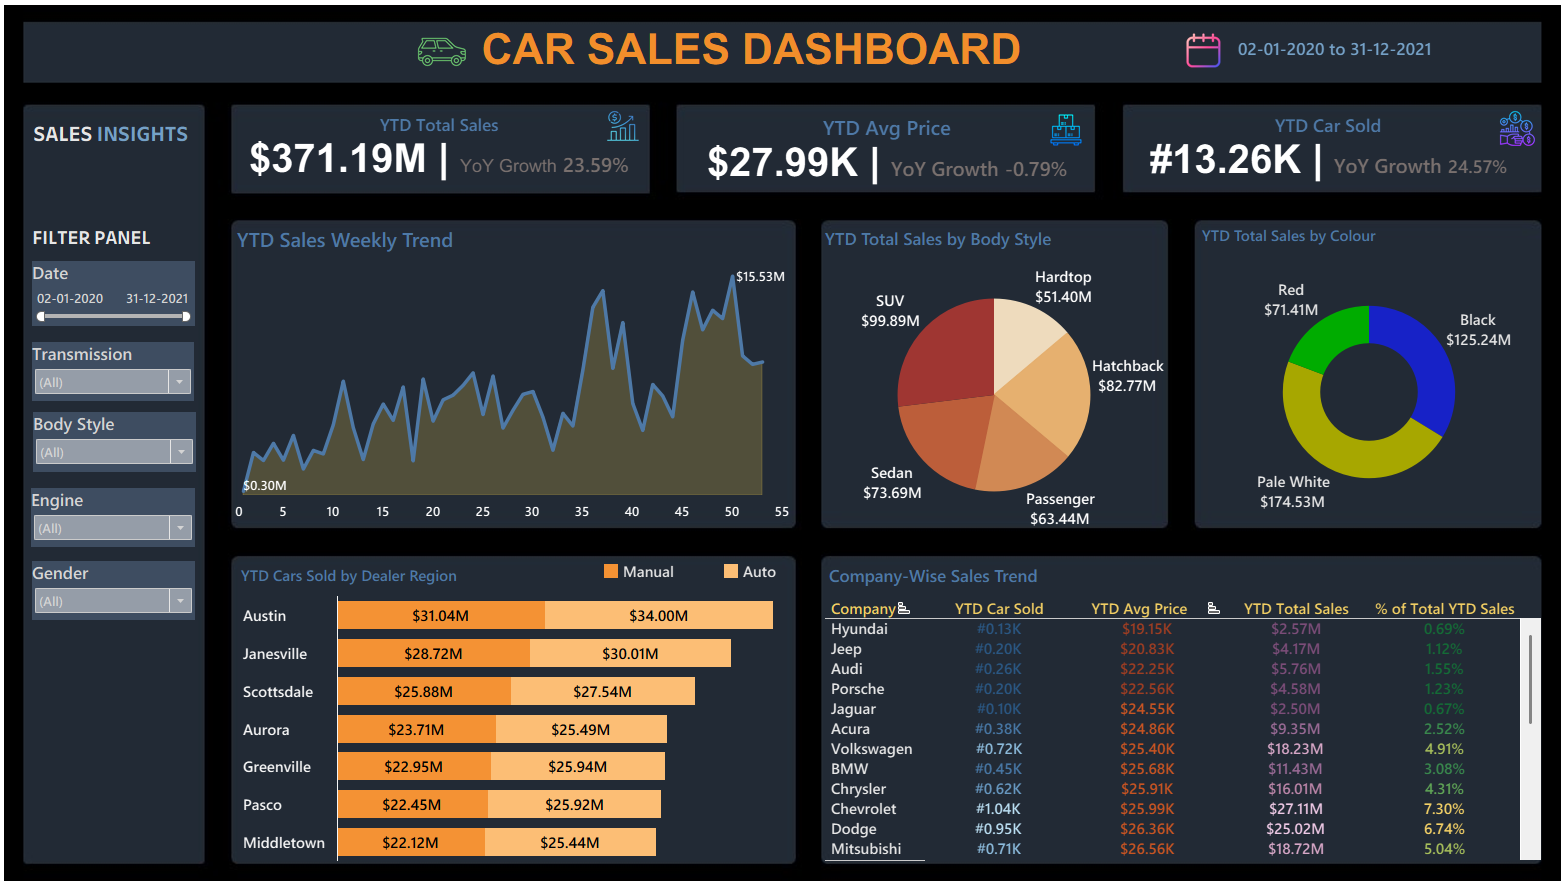

The page's visual inventory and layout, read from the dashboard file:
{"tool":"tableau","page":{"name":"Dashboard 1","canvas":[1600,900],"ordinal":0},"visuals":[{"type":"image","param":"Image/Car Sales Background.jpg","box":[8,8,1584,884]},{"type":"text","box":[452,28,633,58]},{"type":"worksheet","title":"Date Range","mark":"Automatic","box":[1197,28,311,56]},{"type":"image","param":"Image/Car Icon.png","box":[417,30,83,57]},{"type":"image","param":"Image/calendar.png","box":[1192,38,57,38]},{"type":"worksheet","title":"YTD Total Sales","mark":"Automatic","box":[248,110,417,89]},{"type":"worksheet","title":"YTD Car Sold","mark":"Automatic","box":[1138,111,416,88]},{"type":"worksheet","title":"YTD Avg Price","mark":"Automatic","box":[695,114,419,85]},{"type":"image","param":"Image/Sales Icon.png","box":[615,115,49,35]},{"type":"image","param":"Image/Cars Sold Icon.png","box":[1514,117,40,36]},{"type":"image","param":"Image/Avg Price Icon.png","box":[1060,120,46,33]},{"type":"text","box":[47,125,207,30]},{"type":"worksheet","title":"YTD Sales Weekly Trend","mark":"Area","rows":["Calculation_1645731661828096","Calculation_1645731661828096"],"cols":["Date"],"box":[250,228,559,304]},{"type":"worksheet","title":"YTD Total Sales by Colour","mark":"Pie","rows":["Calculation_1645732027969546","Calculation_1645732027994124"],"box":[1215,228,342,307]},{"type":"text","box":[46,229,125,30]},{"type":"worksheet","title":"YTD Total Sales by Body Style","mark":"Pie","box":[838,230,346,306]},{"type":"filter","title":"YTD Sales Weekly Trend","param":"[federated.0ejt9bj1bignxn1986noj0t8b0zh].[none:Date:qk]","box":[49,268,163,65]},{"type":"filter","title":"YTD Sales Weekly Trend","param":"[federated.0ejt9bj1bignxn1986noj0t8b0zh].[none:Transmission:nk]","box":[49,349,162,59]},{"type":"filter","title":"YTD Sales Weekly Trend","param":"[federated.0ejt9bj1bignxn1986noj0t8b0zh].[none:Body Style:nk]","box":[50,419,163,60]},{"type":"filter","title":"YTD Sales Weekly Trend","param":"[federated.0ejt9bj1bignxn1986noj0t8b0zh].[none:Engine:nk]","box":[48,495,164,59]},{"type":"worksheet","title":"Company-Wise Sales Trend","mark":"Automatic","rows":["Company"],"box":[842,567,716,301]},{"type":"filter","title":"YTD Sales Weekly Trend","param":"[federated.0ejt9bj1bignxn1986noj0t8b0zh].[none:Gender:nk]","box":[49,568,163,59]},{"type":"worksheet","title":"YTD Cars Sold by Dealer Region","mark":"Automatic","rows":["Dealer_Region"],"cols":["Calculation_1645731661828096"],"box":[254,568,558,300]},{"type":"legend","title":"YTD Cars Sold by Dealer Region","param":"[federated.0ejt9bj1bignxn1986noj0t8b0zh].[none:Transmission:nk]","box":[618,568,247,30]}]}

Visuals, with their boxes in screenshot pixels (x1, y1, x2, y2), scaled from the page's 1600x900 canvas onto the 1564x890 screenshot:
image: (8, 8, 1556, 882)
text: (442, 28, 1061, 85)
"Date Range" worksheet: (1170, 28, 1474, 83)
image: (408, 30, 489, 86)
image: (1165, 38, 1221, 75)
"YTD Total Sales" worksheet: (242, 109, 650, 197)
"YTD Car Sold" worksheet: (1112, 110, 1519, 197)
"YTD Avg Price" worksheet: (679, 113, 1089, 197)
image: (601, 114, 649, 148)
image: (1480, 116, 1519, 151)
image: (1036, 119, 1081, 151)
text: (46, 124, 248, 153)
"YTD Sales Weekly Trend" worksheet (Area marks): (244, 225, 791, 526)
"YTD Total Sales by Colour" worksheet (Pie marks): (1188, 225, 1522, 529)
text: (45, 226, 167, 256)
"YTD Total Sales by Body Style" worksheet (Pie marks): (819, 227, 1157, 530)
"YTD Sales Weekly Trend" filter: (48, 265, 207, 329)
"YTD Sales Weekly Trend" filter: (48, 345, 206, 403)
"YTD Sales Weekly Trend" filter: (49, 414, 208, 474)
"YTD Sales Weekly Trend" filter: (47, 490, 207, 548)
"Company-Wise Sales Trend" worksheet: (823, 561, 1523, 858)
"YTD Sales Weekly Trend" filter: (48, 562, 207, 620)
"YTD Cars Sold by Dealer Region" worksheet: (248, 562, 794, 858)
"YTD Cars Sold by Dealer Region" legend: (604, 562, 846, 591)
